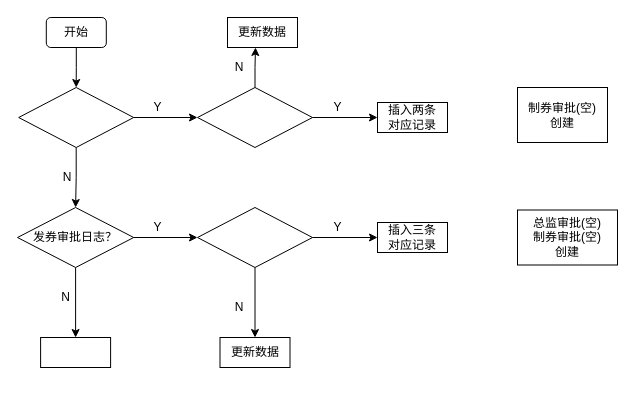
Image size: 635x393. Some labels were removed from this diagram. The shapes that lost their labels are listed below. From the top down, each one's centre as x and y in pixels, then its label:
(76,117): 制券审批日志？
(254,117): 待制券审批中？
(254,237): 待经理审批中？
(75,352): 插入一条 对应记录
